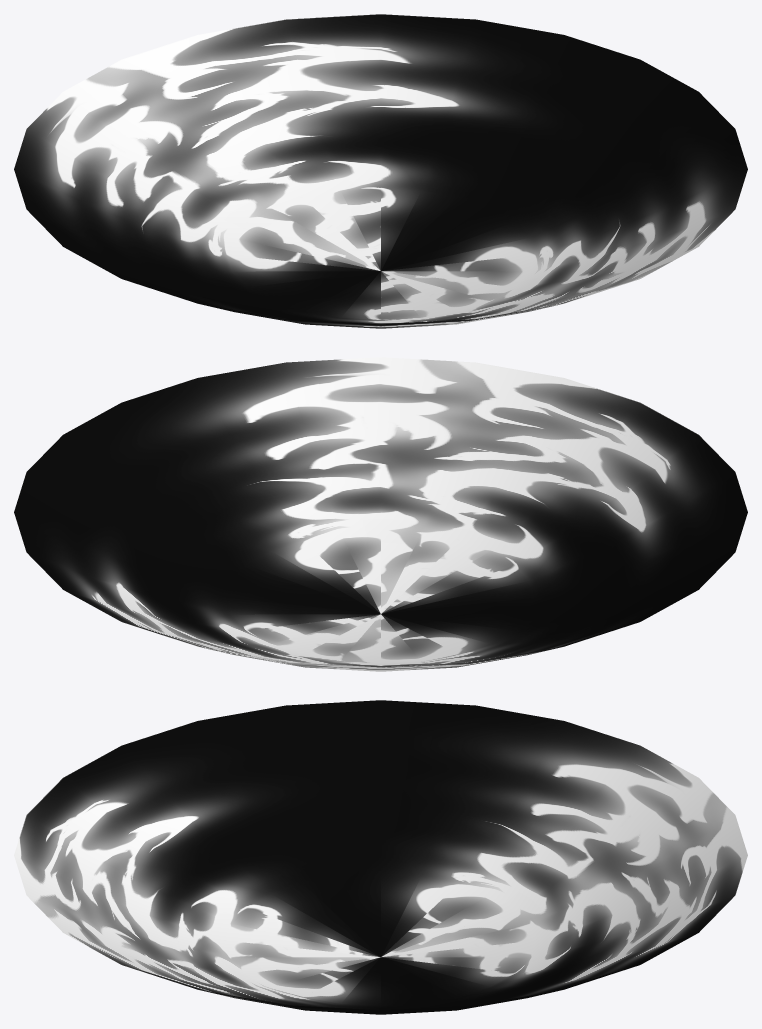
Rendered from FireImpactMesh.fbx.
3 renders of one model, top to bottom at view 1: azimuth 30°, elevation 25°; view 2: azimuth 150°, elevation 25°; view 3: azimuth 270°, elevation 25°, orthographic.
Visible parts, largest first — view 1: FireImpactMesh; view 2: FireImpactMesh; view 3: FireImpactMesh.
Part boxes in pixels (box(x1,y1,x2,y2)): FireImpactMesh: box(14, 14, 747, 328); FireImpactMesh: box(14, 357, 747, 671); FireImpactMesh: box(14, 700, 747, 1014).
Size of the model in its own units: 184 by 28.23 by 184.
Materials: 1 (1 with a texture image).
